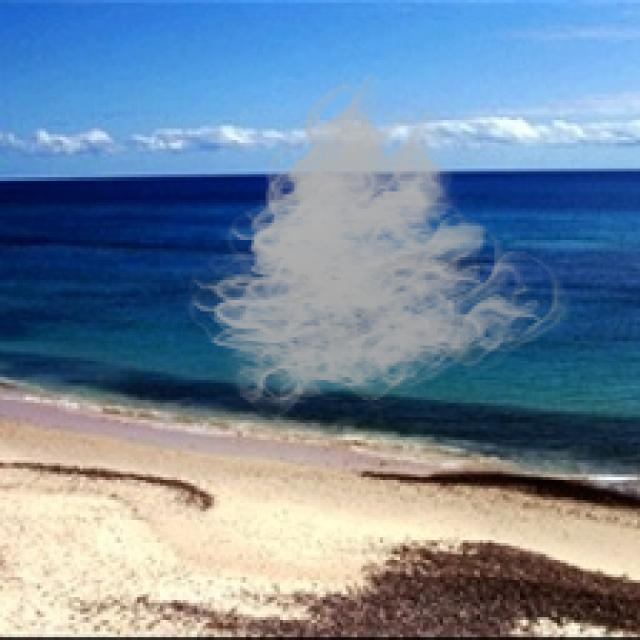Smoke: (177, 74, 574, 426)
